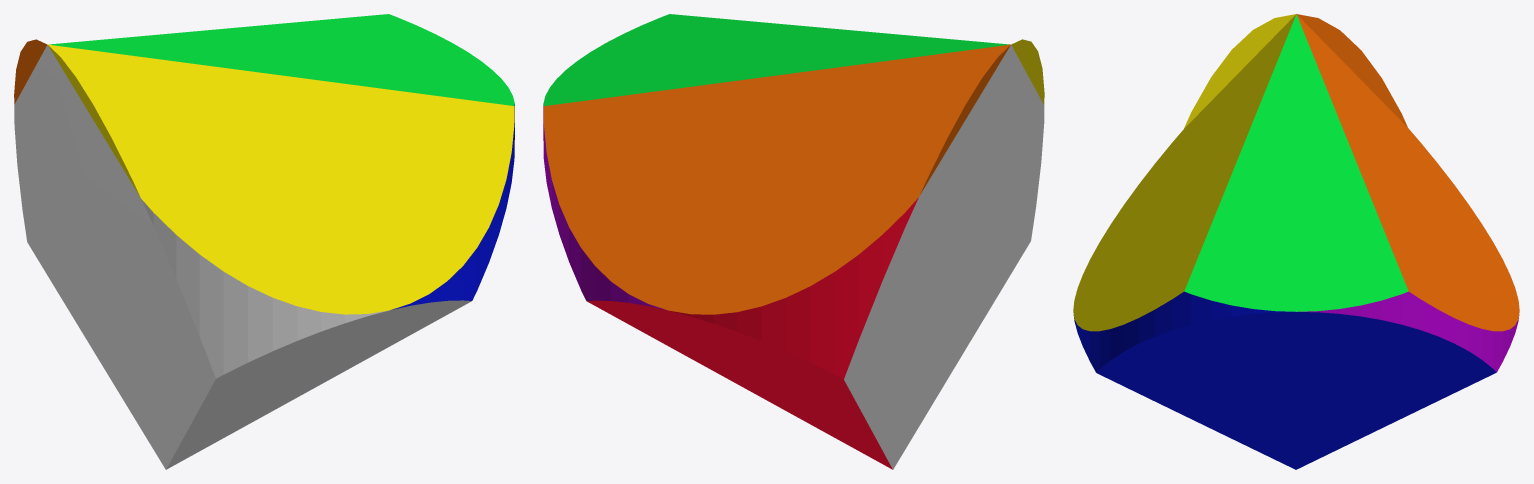
File: kai6.fbx
The picture shows the model from 3 angles, left to right: view 1: azimuth 30°, elevation 25°; view 2: azimuth 150°, elevation 25°; view 3: azimuth 270°, elevation 25°; orthographic projection. The views are drawn at different scales.
Visible parts, largest first — view 1: Cylinder; view 2: Cylinder; view 3: Cylinder.
Boxes of the visible parts, <box> form: Cylinder: <box>14,14,514,469</box>; Cylinder: <box>543,14,1044,469</box>; Cylinder: <box>1073,14,1519,469</box>.
Bounding box in the file's own units: 200 × 200 × 200.
